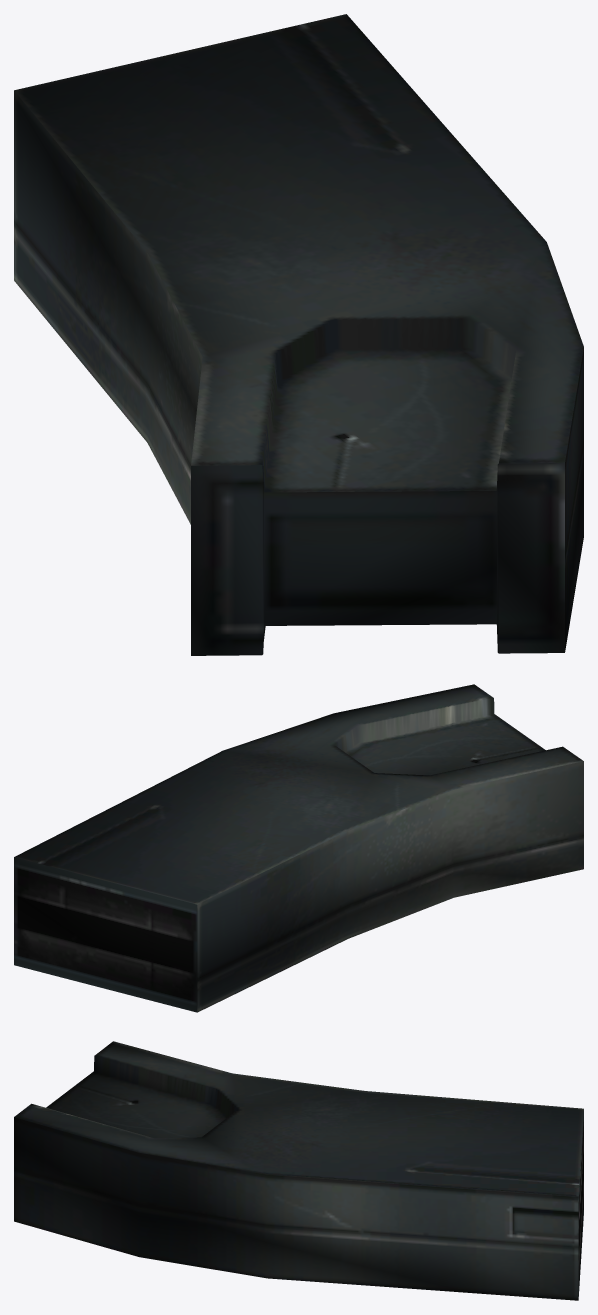
Rendered from mag_6mm.glb.
3 views of the same model, one above another, from view 1: azimuth 30°, elevation 25°; view 2: azimuth 150°, elevation 25°; view 3: azimuth 270°, elevation 25° (orthographic). The views are drawn at different scales.
Parts seen in each view (by area): view 1: __lithtech_lh_to_gltf_rh__; view 2: __lithtech_lh_to_gltf_rh__; view 3: __lithtech_lh_to_gltf_rh__.
Part boxes in pixels (x1,y1,x2,y2): __lithtech_lh_to_gltf_rh__: (14, 14, 583, 655); __lithtech_lh_to_gltf_rh__: (14, 684, 583, 1012); __lithtech_lh_to_gltf_rh__: (14, 1041, 583, 1300).
Bounding box in the file's own units: 6.1 × 1.91 × 9.47.
1 material, 1 textured.
